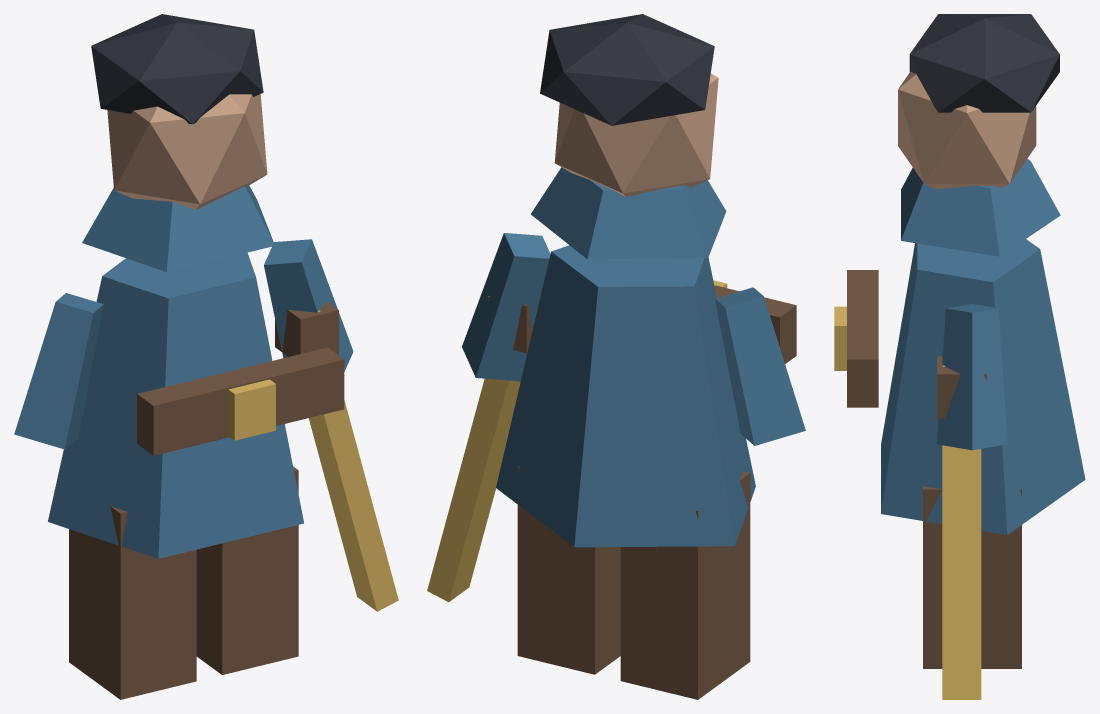
Rendered from gareth-v02.glb.
3 renders of one model, left to right at view 1: azimuth 30°, elevation 25°; view 2: azimuth 150°, elevation 25°; view 3: azimuth 270°, elevation 25°, orthographic. The views are drawn at different scales.
Parts seen in each view (by area): view 1: Gareth coat, Gareth left boot, Gareth head, Gareth hair, Gareth right boot, Gareth belt, Gareth collar, Gareth arm, Gareth sword, Gareth arm.001, Gareth buckle, Gareth sword grip; view 2: Gareth coat, Gareth left boot, Gareth hair, Gareth right boot, Gareth collar, Gareth head, Gareth sword, Gareth arm, Gareth arm.001, Gareth belt, Gareth sword grip; view 3: Gareth coat, Gareth hair, Gareth head, Gareth sword, Gareth collar, Gareth right boot, Gareth arm.001, Gareth belt, Gareth sword grip, Gareth buckle.
Part boxes in pixels (bbox=[...]): Gareth coat: bbox=[48, 252, 303, 558]; Gareth left boot: bbox=[69, 506, 196, 699]; Gareth head: bbox=[107, 94, 267, 209]; Gareth hair: bbox=[91, 14, 263, 124]; Gareth right boot: bbox=[196, 466, 298, 674]; Gareth belt: bbox=[137, 347, 344, 455]; Gareth collar: bbox=[82, 185, 274, 272]; Gareth arm: bbox=[14, 293, 103, 449]; Gareth sword: bbox=[308, 310, 398, 611]; Gareth arm.001: bbox=[264, 239, 353, 371]; Gareth buckle: bbox=[228, 379, 275, 440]; Gareth sword grip: bbox=[275, 301, 338, 356]; Gareth coat: bbox=[496, 245, 755, 547]; Gareth left boot: bbox=[620, 471, 750, 699]; Gareth hair: bbox=[540, 14, 714, 125]; Gareth right boot: bbox=[517, 466, 620, 674]; Gareth collar: bbox=[531, 167, 726, 259]; Gareth head: bbox=[554, 73, 718, 196]; Gareth sword: bbox=[427, 378, 520, 602]; Gareth arm: bbox=[715, 287, 805, 445]; Gareth arm.001: bbox=[462, 233, 550, 381]; Gareth belt: bbox=[714, 285, 796, 363]; Gareth sword grip: bbox=[488, 296, 531, 352]; Gareth coat: bbox=[881, 239, 1085, 534]; Gareth hair: bbox=[909, 14, 1059, 112]; Gareth head: bbox=[898, 71, 1036, 189]; Gareth sword: bbox=[942, 365, 981, 699]; Gareth collar: bbox=[901, 159, 1060, 256]; Gareth right boot: bbox=[923, 486, 1021, 668]; Gareth arm.001: bbox=[937, 304, 1007, 450]; Gareth belt: bbox=[847, 270, 878, 407]; Gareth sword grip: bbox=[937, 356, 986, 418]; Gareth buckle: bbox=[834, 306, 846, 370].
Bounding box in the file's own units: 1.16 × 1.9 × 0.71.
